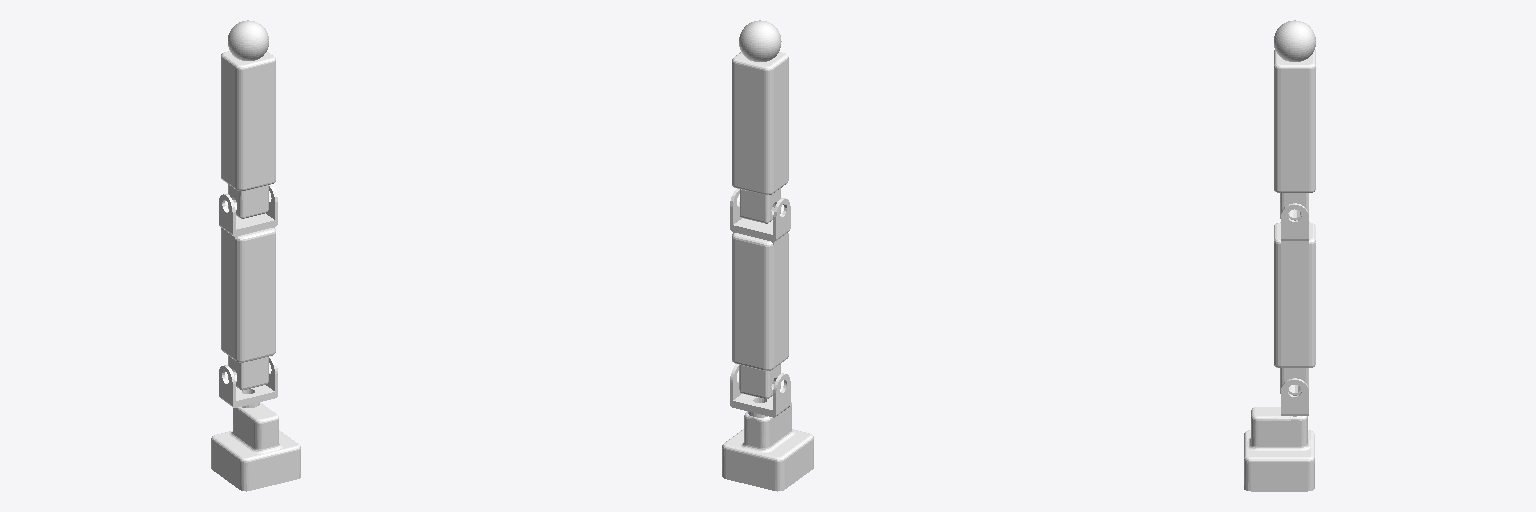
URDF robot description (arm_description):
<robot
  name="arm_description">
  <link
    name="base_link">
    <inertial>
      <origin
        xyz="-2.0703E-09 0.00010657 0.024068"
        rpy="0 0 0" />
      <mass
        value="0.17385" />
      <inertia
        ixx="0.00010151"
        ixy="4.9292E-12"
        ixz="1.2108E-11"
        iyy="9.4955E-05"
        iyz="-7.9143E-07"
        izz="9.7664E-05" />
    </inertial>
    <visual>
      <origin
        xyz="0 0 0"
        rpy="0 0 0" />
      <geometry>
        <mesh
          filename="package://arm_description/meshes/base_link.STL" />
      </geometry>
      <material
        name="">
        <color
          rgba="1 1 1 1" />
      </material>
    </visual>
    <collision>
      <origin
        xyz="0 0 0"
        rpy="0 0 0" />
      <geometry>
        <mesh
          filename="package://arm_description/meshes/base_link.STL" />
      </geometry>
    </collision>
  </link>
  <link
    name="bottom">
    <inertial>
      <origin
        xyz="-3.4694E-18 -4.3539E-17 0.0088832"
        rpy="0 0 0" />
      <mass
        value="0.011286" />
      <inertia
        ixx="4.4212E-06"
        ixy="-9.6522E-23"
        ixz="3.4098E-22"
        iyy="1.6248E-06"
        iyz="4.6026E-21"
        izz="4.115E-06" />
    </inertial>
    <visual>
      <origin
        xyz="0 0 0"
        rpy="0 0 0" />
      <geometry>
        <mesh
          filename="package://arm_description/meshes/bottom.STL" />
      </geometry>
      <material
        name="">
        <color
          rgba="1 1 1 1" />
      </material>
    </visual>
    <collision>
      <origin
        xyz="0 0 0"
        rpy="0 0 0" />
      <geometry>
        <mesh
          filename="package://arm_description/meshes/bottom.STL" />
      </geometry>
    </collision>
  </link>
  <joint
    name="bottom_yaw"
    type="revolute">
    <origin
      xyz="0 0.013899 0.069385"
      rpy="0 0 -1.5708" />
    <parent
      link="base_link" />
    <child
      link="bottom" />
    <axis
      xyz="0 0 1" />
    <limit
      lower="-1.7453"
      upper="1.7453"
      effort="0"
      velocity="0" />
  </joint>
  <link
    name="middle">
    <inertial>
      <origin
        xyz="-2.6489E-15 2.9876E-15 0.080094"
        rpy="0 0 0" />
      <mass
        value="0.23594" />
      <inertia
        ixx="0.00049554"
        ixy="-1.4378E-13"
        ixz="3.2469E-17"
        iyy="0.00048716"
        iyz="-3.6528E-17"
        izz="5.9595E-05" />
    </inertial>
    <visual>
      <origin
        xyz="0 0 0"
        rpy="0 0 0" />
      <geometry>
        <mesh
          filename="package://arm_description/meshes/middle.STL" />
      </geometry>
      <material
        name="">
        <color
          rgba="1 1 1 1" />
      </material>
    </visual>
    <collision>
      <origin
        xyz="0 0 0"
        rpy="0 0 0" />
      <geometry>
        <mesh
          filename="package://arm_description/meshes/middle.STL" />
      </geometry>
    </collision>
  </link>
  <joint
    name="middle_pitch"
    type="revolute">
    <origin
      xyz="0 0 0.026416"
      rpy="0 0 0" />
    <parent
      link="bottom" />
    <child
      link="middle" />
    <axis
      xyz="0 1 0" />
    <limit
      lower="-1.7453"
      upper="1.7453"
      effort="0"
      velocity="0" />
  </joint>
  <link
    name="top">
    <inertial>
      <origin
        xyz="8.6736E-18 1.1088E-17 0.075857"
        rpy="0 0 0" />
      <mass
        value="0.22328" />
      <inertia
        ixx="0.0004163"
        ixy="3.0184E-21"
        ixz="-2.3006E-20"
        iyy="0.00041075"
        iyz="-1.3284E-20"
        izz="5.54E-05" />
    </inertial>
    <visual>
      <origin
        xyz="0 0 0"
        rpy="0 0 0" />
      <geometry>
        <mesh
          filename="package://arm_description/meshes/top.STL" />
      </geometry>
      <material
        name="">
        <color
          rgba="1 1 1 1" />
      </material>
    </visual>
    <collision>
      <origin
        xyz="0 0 0"
        rpy="0 0 0" />
      <geometry>
        <mesh
          filename="package://arm_description/meshes/top.STL" />
      </geometry>
    </collision>
  </link>
  <joint
    name="top_pitch"
    type="revolute">
    <origin
      xyz="0 0 0.17312"
      rpy="0 0 0" />
    <parent
      link="middle" />
    <child
      link="top" />
    <axis
      xyz="0 1 0" />
    <limit
      lower="-1.7453"
      upper="1.7453"
      effort="0"
      velocity="0" />
  </joint>
  <link
    name="ball">
    <inertial>
      <origin
        xyz="-5.2042E-18 -2.2118E-17 0.01504"
        rpy="0 0 0" />
      <mass
        value="0.028013" />
      <inertia
        ixx="3.8629E-06"
        ixy="-5.294E-23"
        ixz="-2.8681E-22"
        iyy="3.8629E-06"
        iyz="-8.978E-22"
        izz="4.2125E-06" />
    </inertial>
    <visual>
      <origin
        xyz="0 0 0"
        rpy="0 0 0" />
      <geometry>
        <mesh
          filename="package://arm_description/meshes/ball.STL" />
      </geometry>
      <material
        name="">
        <color
          rgba="1 1 1 1" />
      </material>
    </visual>
    <collision>
      <origin
        xyz="0 0 0"
        rpy="0 0 0" />
      <geometry>
        <mesh
          filename="package://arm_description/meshes/ball.STL" />
      </geometry>
    </collision>
  </link>
  <joint
    name="ball_fixed"
    type="fixed">
    <origin
      xyz="0 0 0.1467"
      rpy="0 0 2.9027" />
    <parent
      link="top" />
    <child
      link="ball" />
    <axis
      xyz="0 0 1" />
  </joint>
</robot>

--- Facts derived from the render (not from the file) ---
The picture shows the robot from 3 angles, left to right: view 1: azimuth 30°, elevation 25°; view 2: azimuth 150°, elevation 25°; view 3: azimuth 270°, elevation 25°; orthographic projection.
Robot: arm_description — 5 links, 4 joints (3 revolute, 1 fixed); root link base_link; default pose: all joints at 0.
Visible links, largest first — view 1: middle, top, base_link, bottom, ball; view 2: middle, top, base_link, bottom, ball; view 3: middle, top, base_link, ball, bottom.
Boxes of the visible links, x1=… form: middle: x1=219, y1=185, x2=277, y2=390; top: x1=221, y1=51, x2=275, y2=218; base_link: x1=211, y1=402, x2=300, y2=491; bottom: x1=219, y1=356, x2=277, y2=407; ball: x1=228, y1=20, x2=268, y2=60; middle: x1=730, y1=189, x2=790, y2=398; top: x1=732, y1=52, x2=788, y2=223; base_link: x1=722, y1=396, x2=813, y2=491; bottom: x1=730, y1=364, x2=790, y2=417; ball: x1=739, y1=20, x2=781, y2=61; middle: x1=1274, y1=203, x2=1315, y2=395; top: x1=1274, y1=50, x2=1315, y2=220; base_link: x1=1244, y1=407, x2=1314, y2=491; ball: x1=1274, y1=20, x2=1315, y2=61; bottom: x1=1281, y1=378, x2=1308, y2=415.
Bounding box of the posed robot: 0.0635 × 0.0647 × 0.4489 m (x, y, z).
Meshes: 5 distinct files referenced, 5 mesh visuals loaded (5 binary STL).